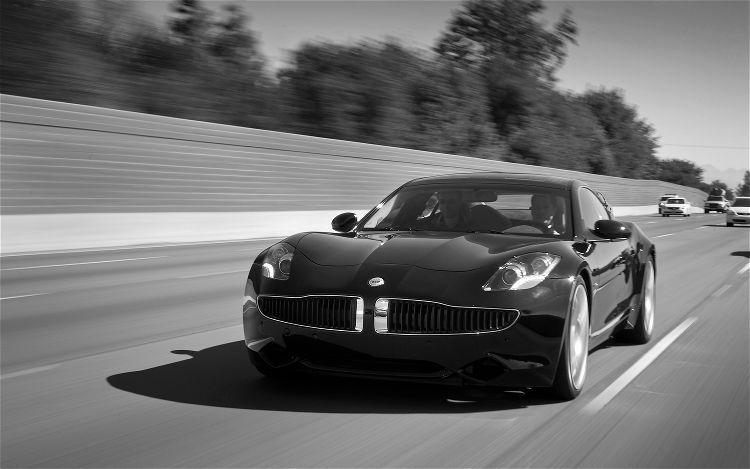car: (244, 179, 659, 398)
